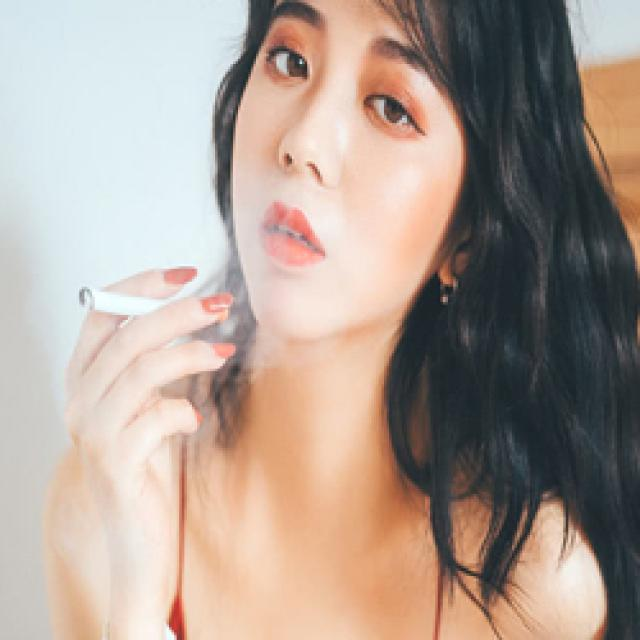Smooking: (56, 279, 180, 323)
